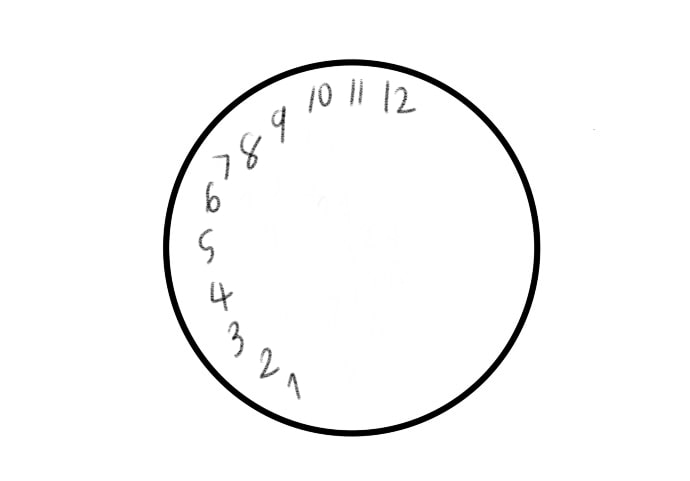eight: (240, 130, 260, 172)
eleven: (347, 76, 364, 109)
five: (197, 227, 217, 264)
four: (209, 278, 236, 314)
nine: (269, 106, 290, 144)
one: (286, 370, 303, 401)
seven: (212, 151, 231, 182)
six: (204, 178, 221, 215)
ten: (307, 83, 336, 116)
three: (227, 319, 244, 359)
twelve: (384, 78, 417, 117)
two: (257, 344, 280, 382)
